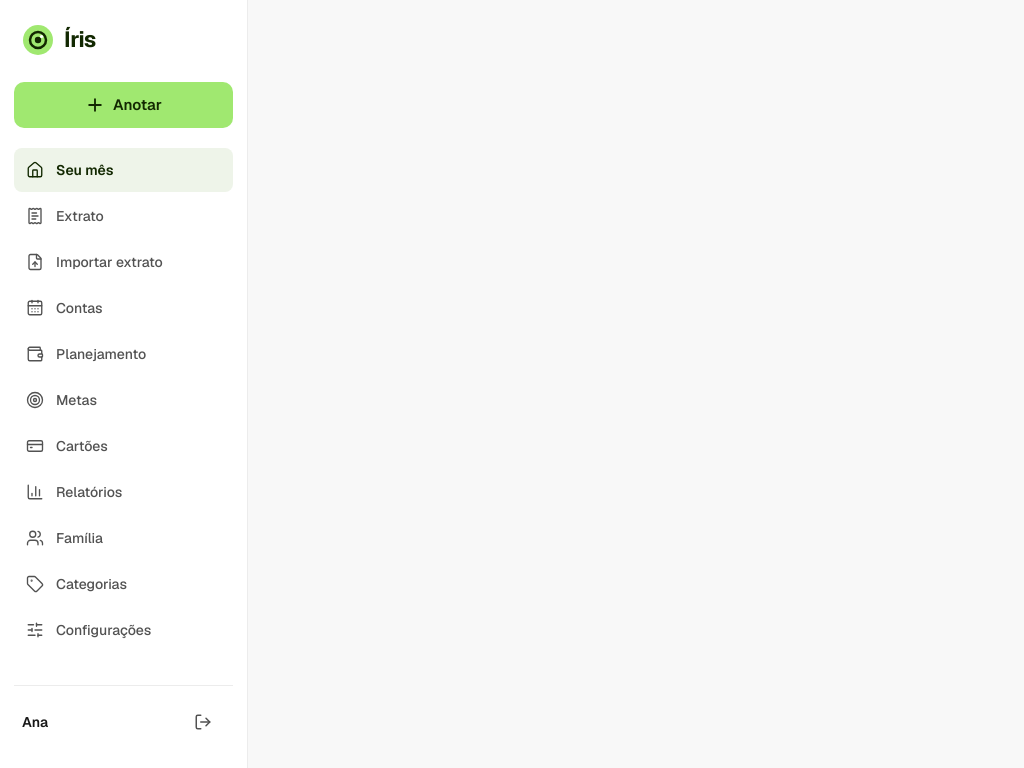
Scenario: Sair da Íris pede confirmação: Sair ou Ficar
Click the button named "Sair da Íris" at x=203, y=722, box [181,700,225,744]
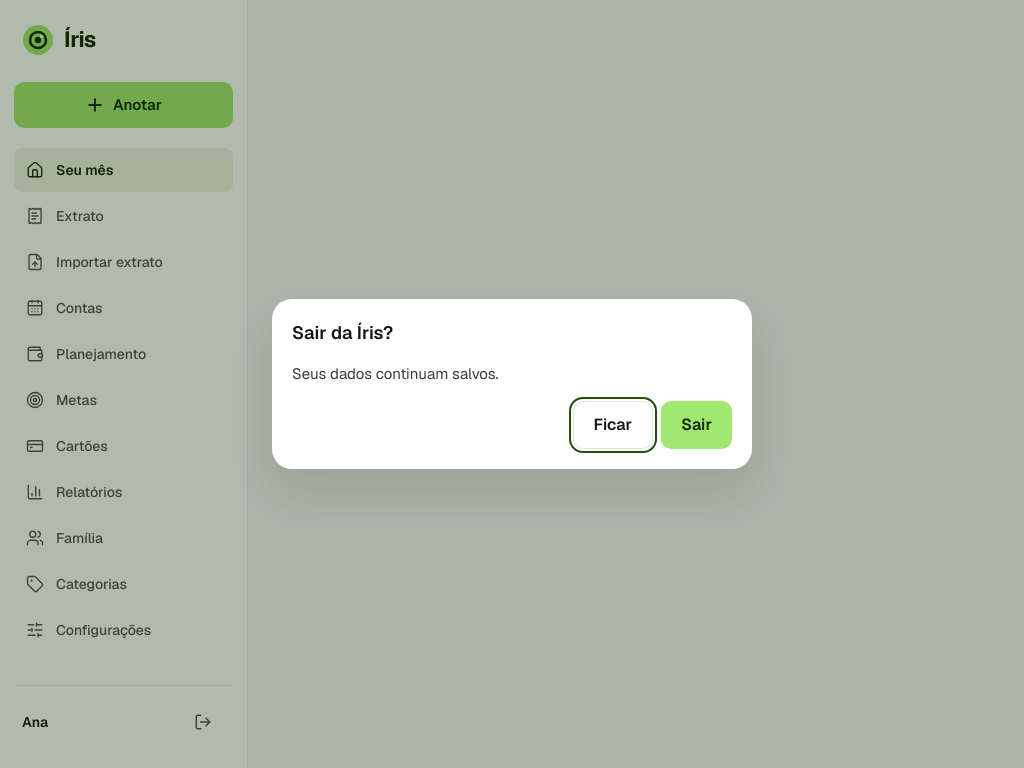
expect the text "Seus dados continuam salvos." is shown: met, box [292,364,499,383]
Click the button "Ficar" at x=613, y=425, box [573,401,653,449]
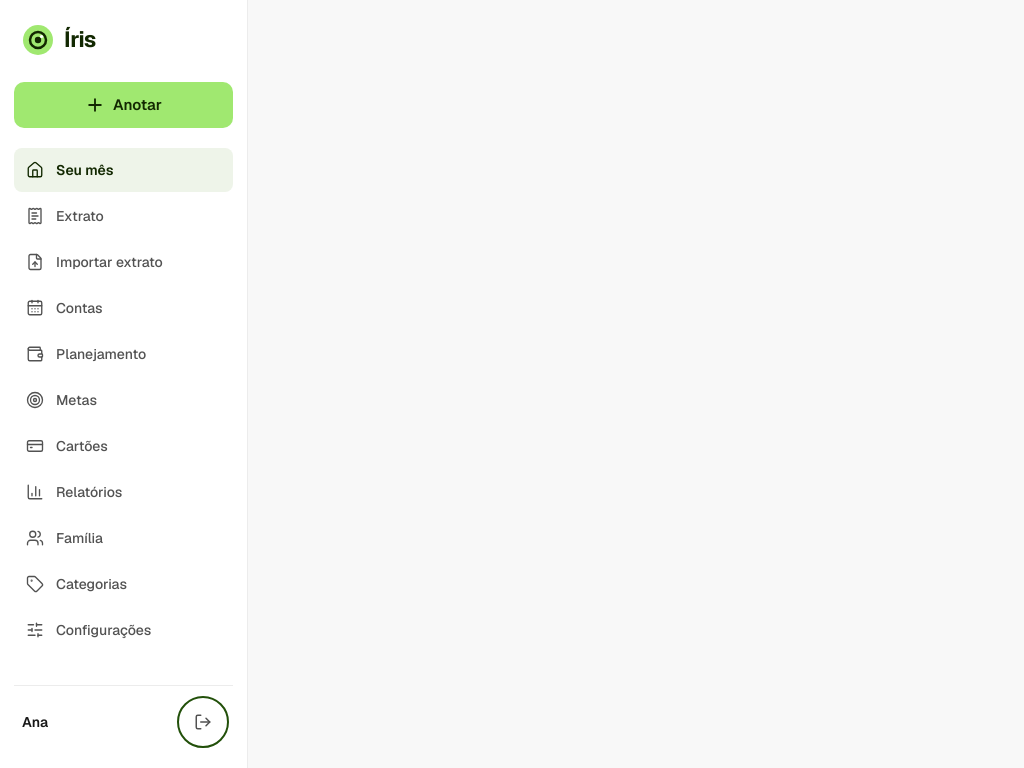
expect the dialog is gone: met
